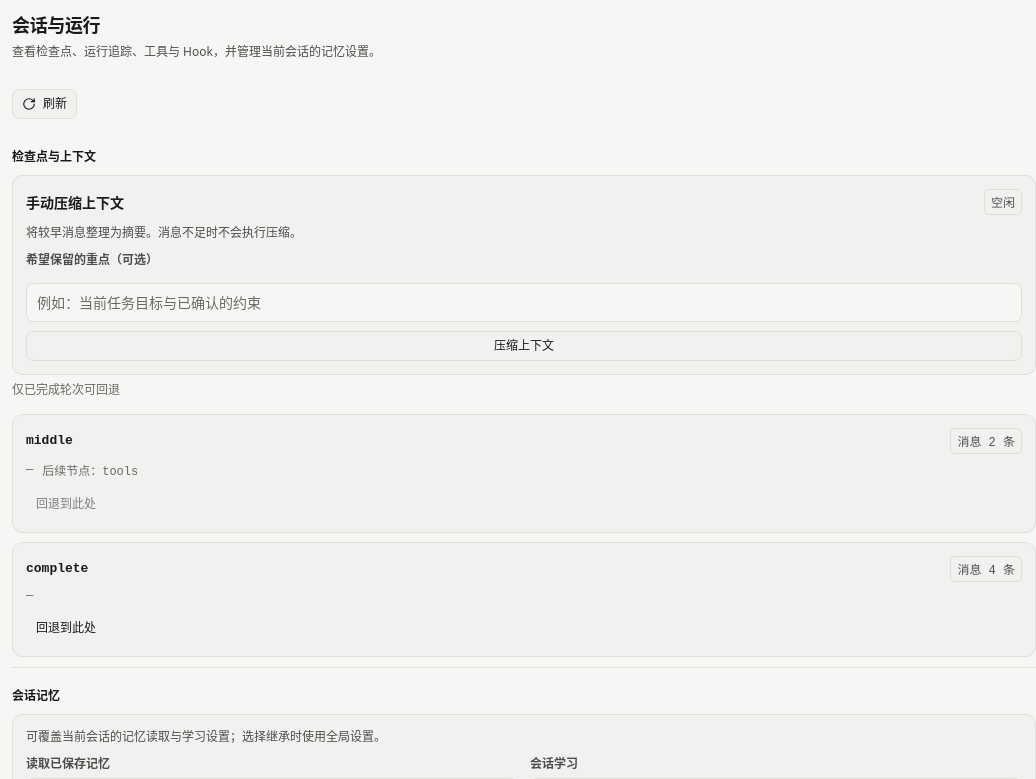
Test: 线程已有模型时不依赖全局默认；压缩无操作给出准确反馈且不请求模型目录
Click the button "压缩上下文" at (524, 346), box [26,331,1022,361]
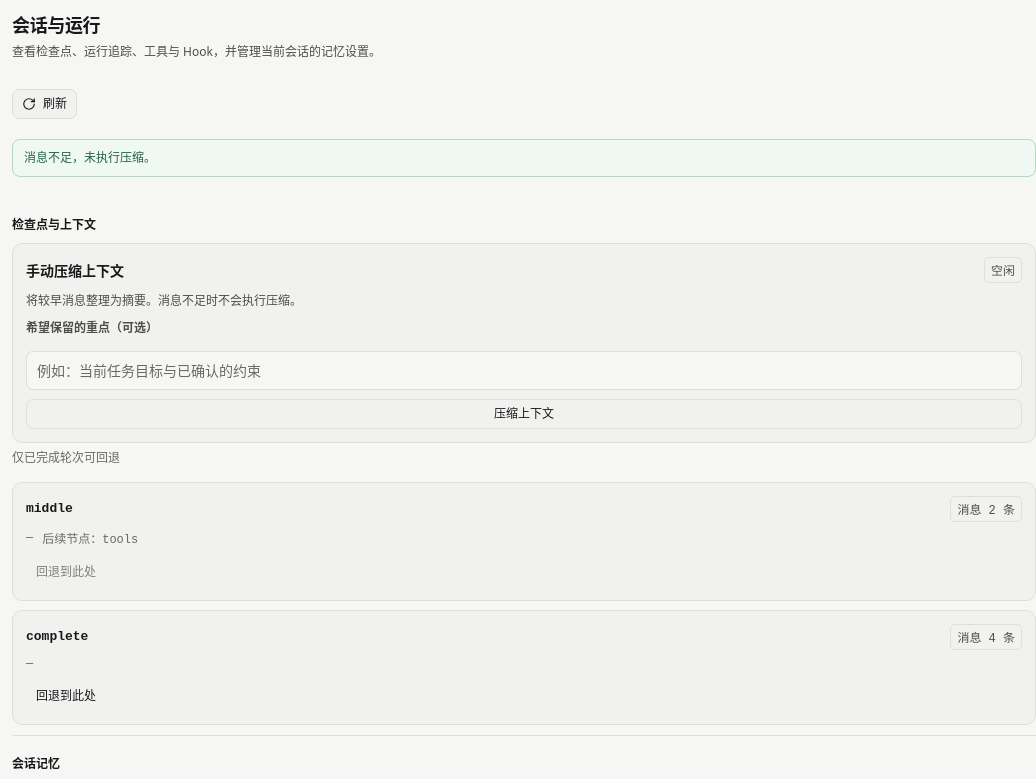
Now the message "消息不足，未执行压缩。" is shown, box [12,139,1035,177]
